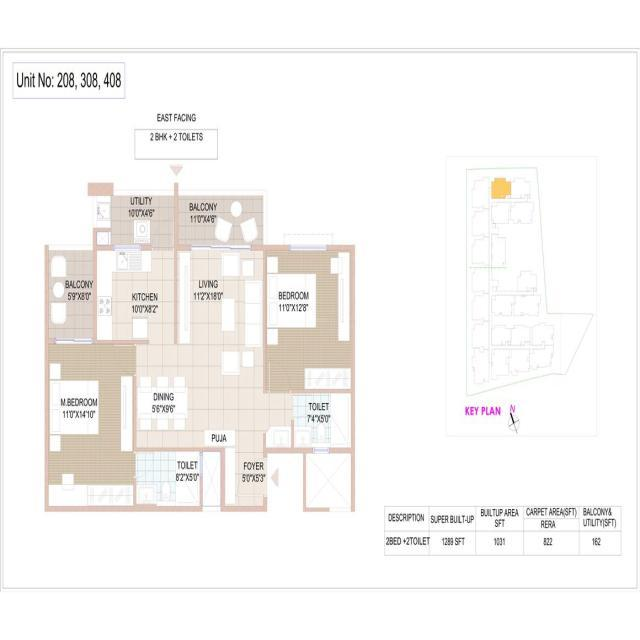Balcony-Sitout: (43, 243, 97, 344), (174, 192, 267, 249)
Bedroom: (265, 245, 355, 392)
Bedroom with Toilet: (43, 343, 204, 513)
Dining: (136, 375, 190, 438)
Enterance-Foyer: (225, 457, 280, 499)
Kitchen: (94, 245, 179, 342)
Living: (174, 246, 265, 375)
Toilet: (136, 447, 204, 511), (291, 389, 355, 450)
Utility: (110, 193, 180, 250)
